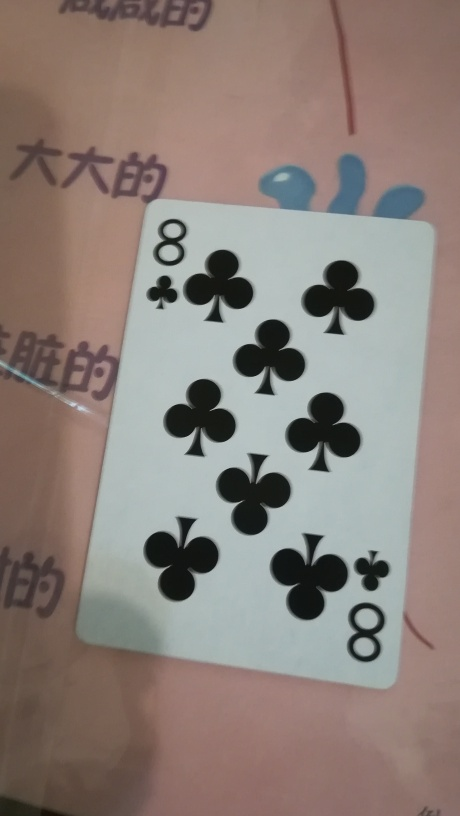mh 8: (70, 199, 432, 695)
